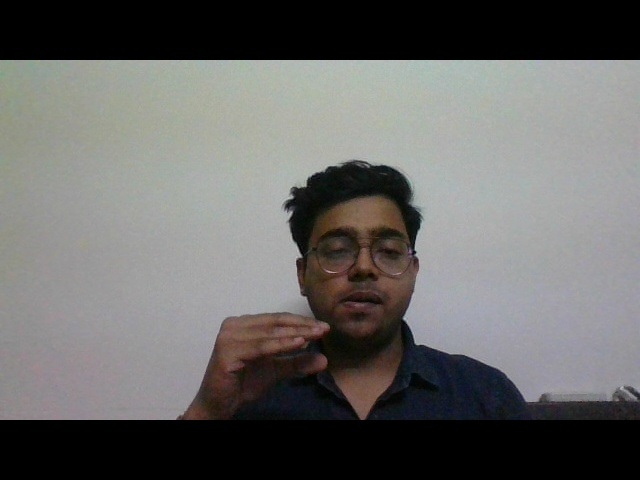no: (197, 296, 343, 421)
